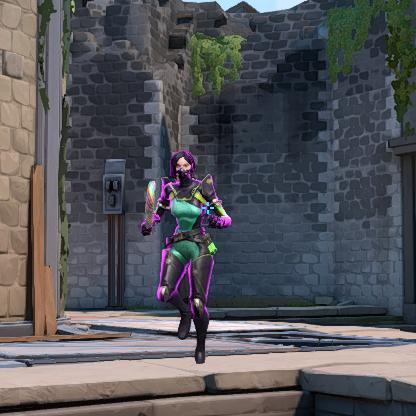enemyBody: (175, 181, 201, 238)
enemyHead: (176, 158, 189, 175)
